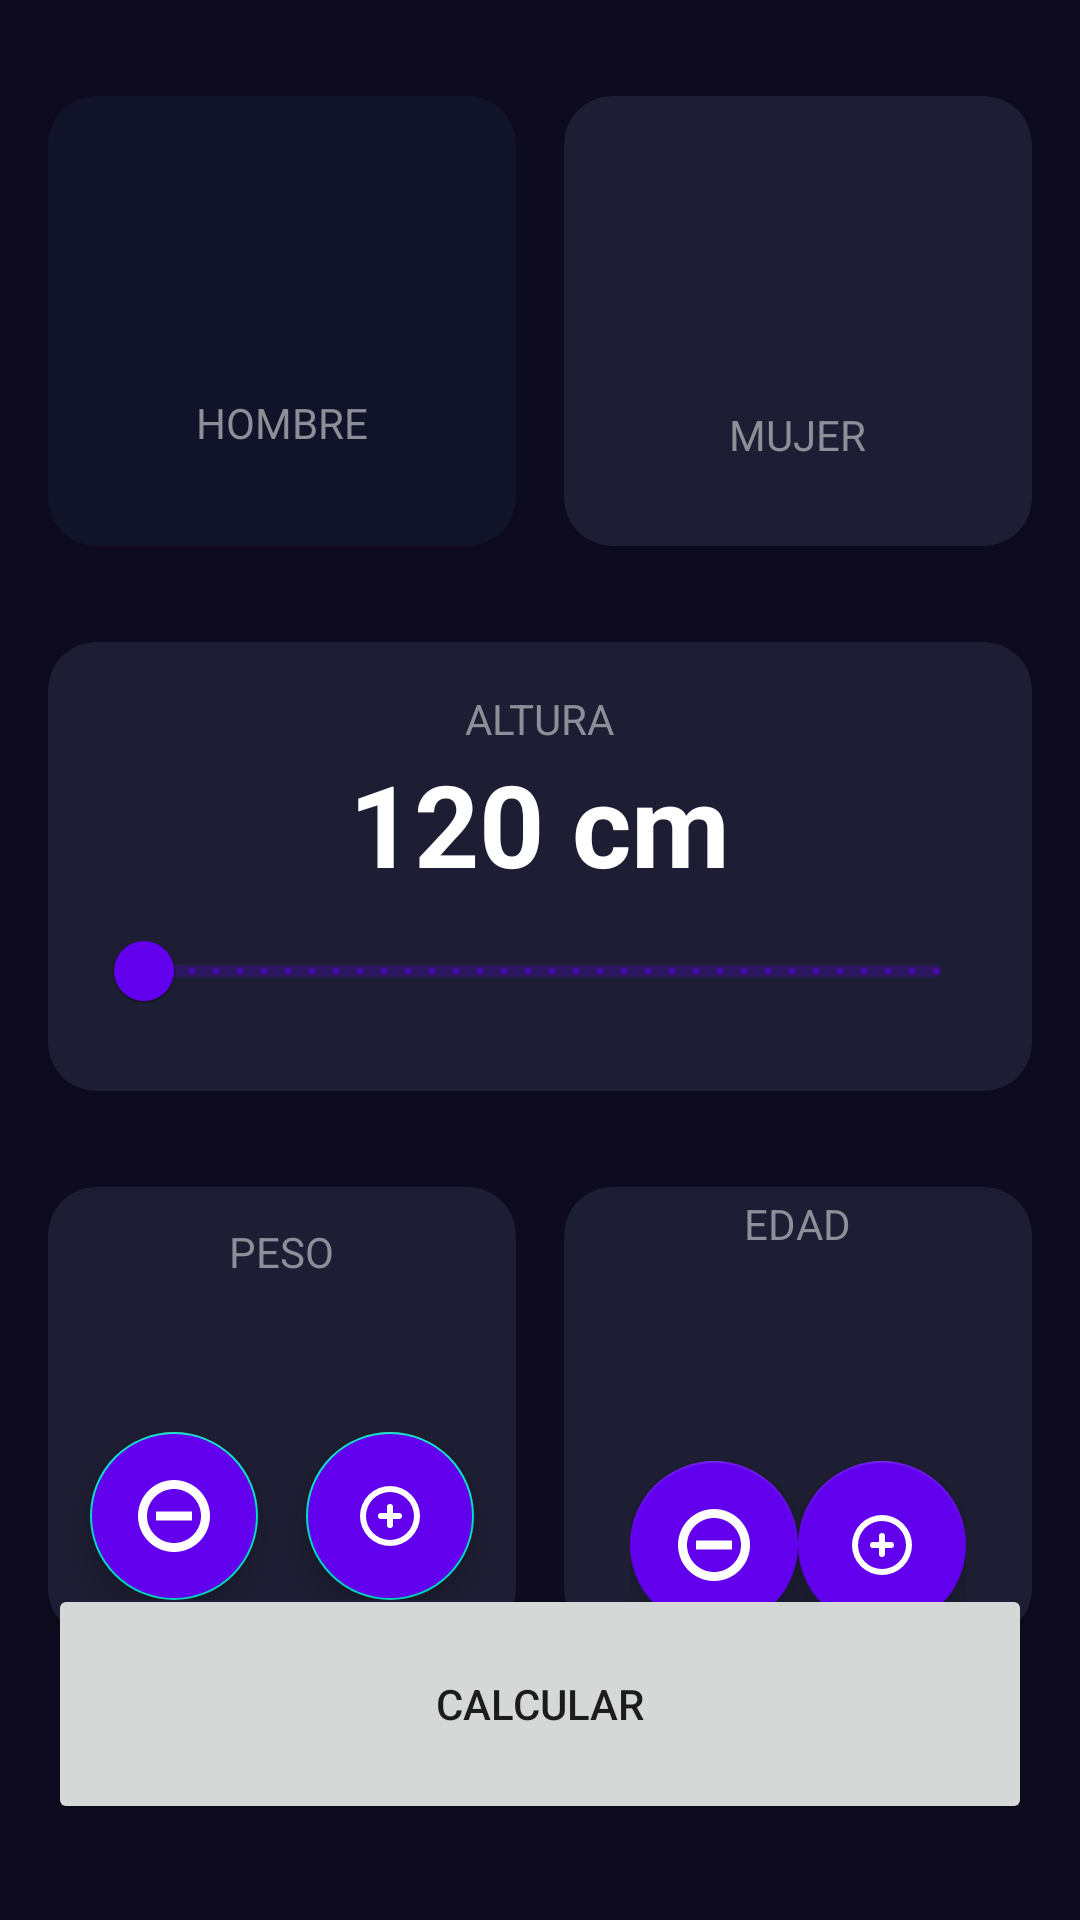

Where to tap for icons on this 1080×1920 app screen, as (x=x, y=y):
plus: (x=390, y=1516), (x=882, y=1545)
subtract: (x=174, y=1516), (x=714, y=1545)
